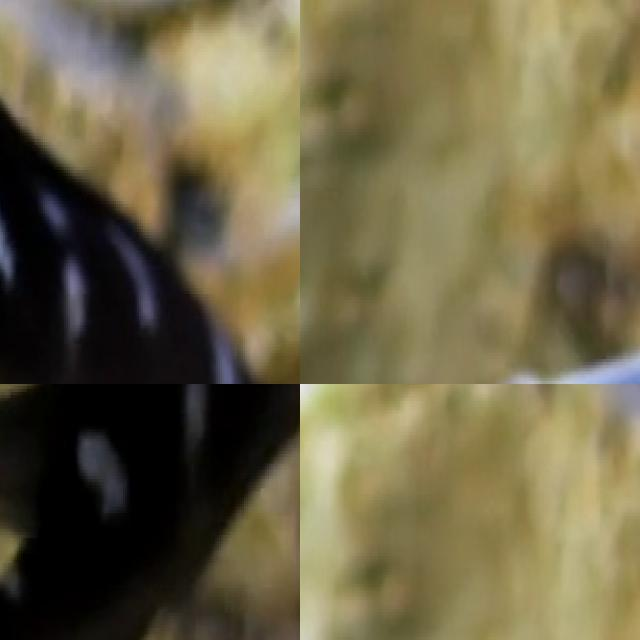fish: (0, 0, 300, 384), (0, 384, 300, 640)
